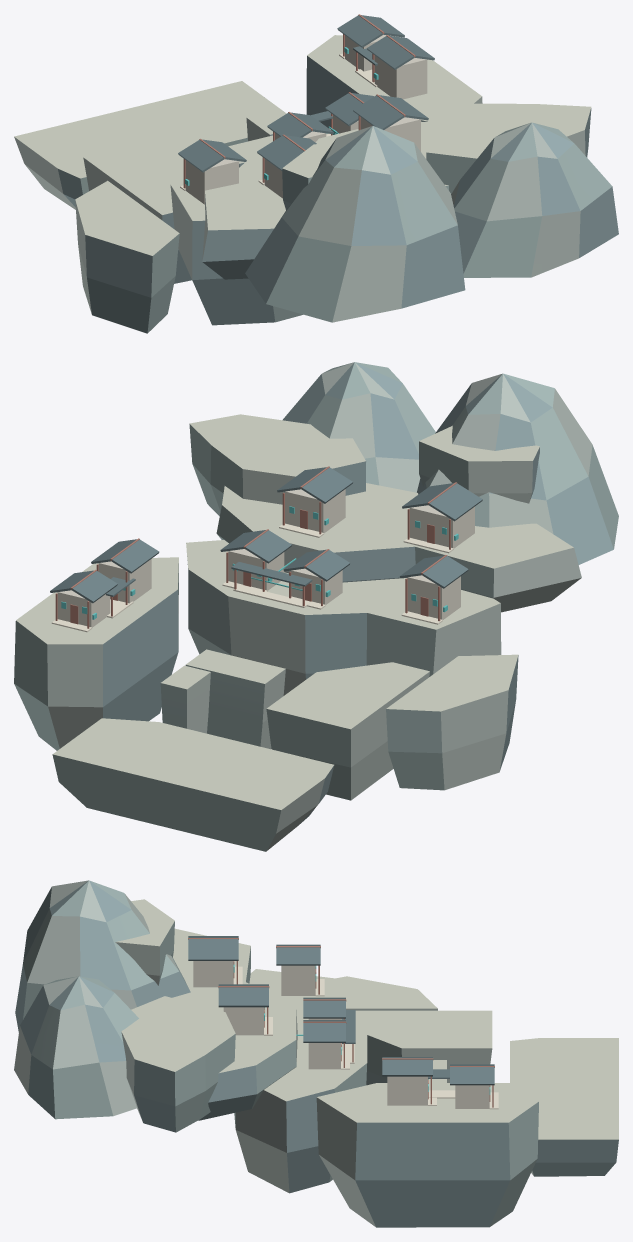
The model's file is WaterCourt_Environment.fbx.
3 views of the same model, one above another, from view 1: azimuth 30°, elevation 25°; view 2: azimuth 150°, elevation 25°; view 3: azimuth 270°, elevation 25° (orthographic). The views are drawn at different scales.
Parts seen in each view (by area): view 1: SCN_0221_10_Summit_east_peak_20m, SCN_0222_11_Back_west_peak_17m, SCN_0212_01_Entry_rock_shelf_below_yard, SCN_0217_06_East_outer_shoulder_3m, SCN_0220_09_West_wind_shelf_12m, SCN_0219_08_Upper_paperworks_terrace_9m, SCN_0218_07_Back_court_cliff_6m, SCN_0216_05_West_outer_crag_6m, SCN_0213_02_Receiver_rock_buttress_east, SCN_0235_Wall_body, SCN_0223_12_Summit_garden_shelf_15m, SCN_0268_Wall_body (+13 smaller); view 2: SCN_0212_01_Entry_rock_shelf_below_yard, SCN_0218_07_Back_court_cliff_6m, SCN_0216_05_West_outer_crag_6m, SCN_0219_08_Upper_paperworks_terrace_9m, SCN_0221_10_Summit_east_peak_20m, SCN_0217_06_East_outer_shoulder_3m, SCN_0213_02_Receiver_rock_buttress_east, SCN_0220_09_West_wind_shelf_12m, SCN_0222_11_Back_west_peak_17m, SCN_0214_03_North_landing_rock_buttress, SCN_0223_12_Summit_garden_shelf_15m, SCN_0215_04_West_return_rock_buttress (+15 smaller); view 3: SCN_0216_05_West_outer_crag_6m, SCN_0222_11_Back_west_peak_17m, SCN_0221_10_Summit_east_peak_20m, SCN_0212_01_Entry_rock_shelf_below_yard, SCN_0218_07_Back_court_cliff_6m, SCN_0220_09_West_wind_shelf_12m, SCN_0219_08_Upper_paperworks_terrace_9m, SCN_0213_02_Receiver_rock_buttress_east, SCN_0217_06_East_outer_shoulder_3m, SCN_0223_12_Summit_garden_shelf_15m, SCN_0235_Wall_body, SCN_0291_Pitched_eave_-1 (+11 smaller).
Part boxes in pixels (left/top/right/bottom): SCN_0221_10_Summit_east_peak_20m: left=245, top=126, right=465, bottom=322; SCN_0222_11_Back_west_peak_17m: left=451, top=122, right=618, bottom=277; SCN_0212_01_Entry_rock_shelf_below_yard: left=14, top=81, right=286, bottom=209; SCN_0217_06_East_outer_shoulder_3m: left=75, top=180, right=179, bottom=333; SCN_0220_09_West_wind_shelf_12m: left=426, top=103, right=591, bottom=194; SCN_0219_08_Upper_paperworks_terrace_9m: left=202, top=121, right=448, bottom=279; SCN_0218_07_Back_court_cliff_6m: left=170, top=128, right=330, bottom=325; SCN_0216_05_West_outer_crag_6m: left=306, top=35, right=482, bottom=128; SCN_0213_02_Receiver_rock_buttress_east: left=83, top=137, right=191, bottom=283; SCN_0235_Wall_body: left=374, top=55, right=427, bottom=99; SCN_0223_12_Summit_garden_shelf_15m: left=282, top=142, right=333, bottom=209; SCN_0268_Wall_body: left=185, top=159, right=238, bottom=204; SCN_0212_01_Entry_rock_shelf_below_yard: left=52, top=718, right=334, bottom=851; SCN_0218_07_Back_court_cliff_6m: left=186, top=540, right=501, bottom=695; SCN_0216_05_West_outer_crag_6m: left=14, top=557, right=178, bottom=750; SCN_0219_08_Upper_paperworks_terrace_9m: left=216, top=483, right=581, bottom=612; SCN_0221_10_Summit_east_peak_20m: left=417, top=373, right=618, bottom=564; SCN_0217_06_East_outer_shoulder_3m: left=386, top=654, right=518, bottom=790; SCN_0213_02_Receiver_rock_buttress_east: left=266, top=662, right=429, bottom=800; SCN_0220_09_West_wind_shelf_12m: left=189, top=414, right=366, bottom=516; SCN_0222_11_Back_west_peak_17m: left=282, top=362, right=435, bottom=492; SCN_0214_03_North_landing_rock_buttress: left=185, top=649, right=285, bottom=749; SCN_0223_12_Summit_garden_shelf_15m: left=419, top=425, right=539, bottom=503; SCN_0215_04_West_return_rock_buttress: left=160, top=665, right=210, bottom=733; SCN_0216_05_West_outer_crag_6m: left=316, top=1083, right=538, bottom=1227; SCN_0222_11_Back_west_peak_17m: left=14, top=976, right=138, bottom=1119; SCN_0221_10_Summit_east_peak_20m: left=15, top=880, right=190, bottom=1032; SCN_0212_01_Entry_rock_shelf_below_yard: left=510, top=1038, right=618, bottom=1176; SCN_0218_07_Back_court_cliff_6m: left=234, top=969, right=367, bottom=1193; SCN_0220_09_West_wind_shelf_12m: left=121, top=996, right=235, bottom=1132; SCN_0219_08_Upper_paperworks_terrace_9m: left=172, top=928, right=297, bottom=1120; SCN_0213_02_Receiver_rock_buttress_east: left=355, top=1010, right=492, bottom=1085; SCN_0217_06_East_outer_shoulder_3m: left=334, top=976, right=437, bottom=1010; SCN_0223_12_Summit_garden_shelf_15m: left=115, top=899, right=174, bottom=985; SCN_0235_Wall_body: left=387, top=1076, right=427, bottom=1105; SCN_0291_Pitched_eave_-1: left=188, top=939, right=238, bottom=960.
Bounding box in the file's own units: 43 × 26 × 59.83.
